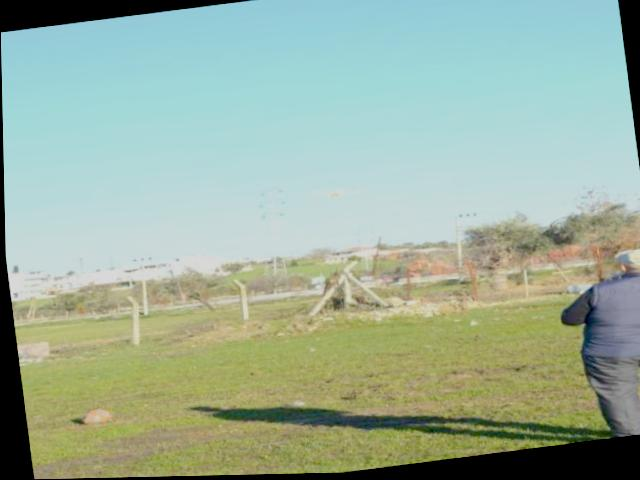iha: (309, 188, 362, 202)
